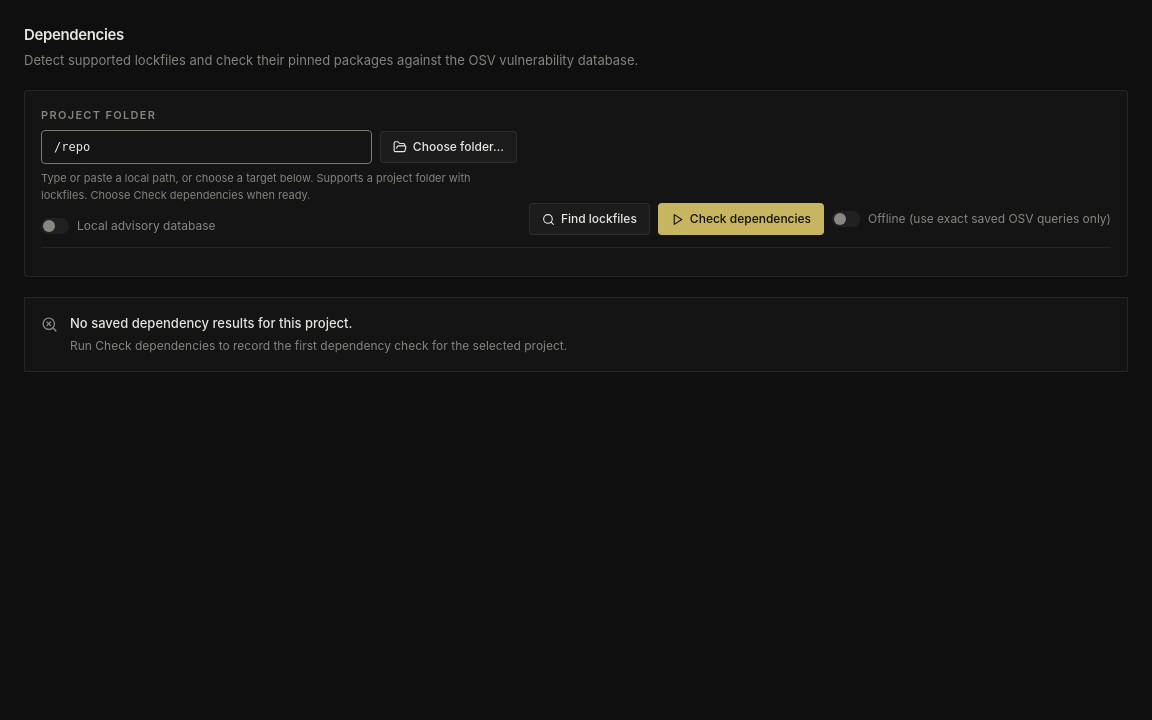
Scenario: a selected project without saved results shows the no-saved-results state instead of the choose-project prompt
Expected: the text "No saved dependency results for this project." is shown, [70,315,352,331]
Click the button "Check dependencies": (741, 219) [658,203,824,235]
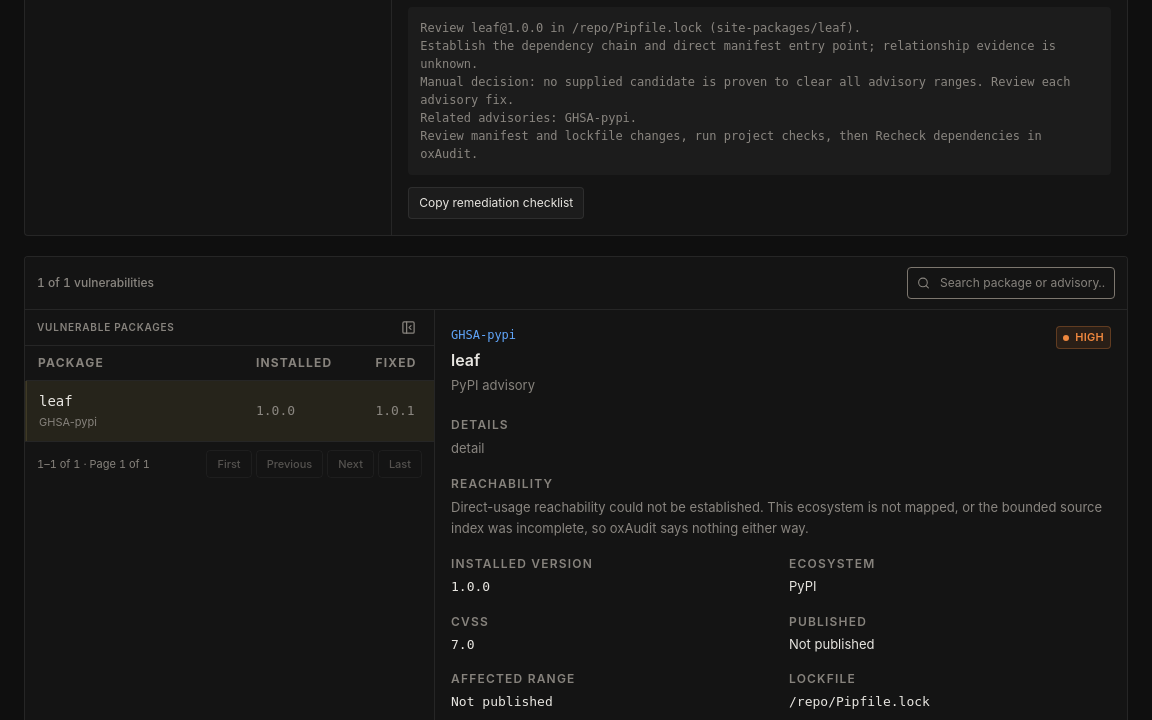
Expected: the heading "leaf" is shown, [451,350,480,370]
